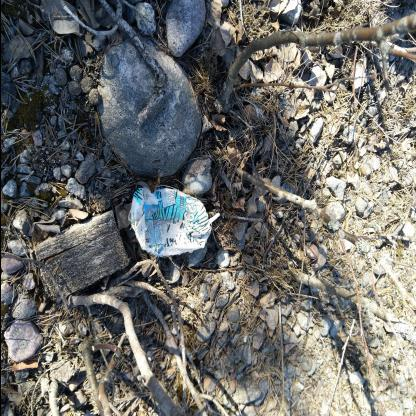karton: (127, 187, 221, 259)
